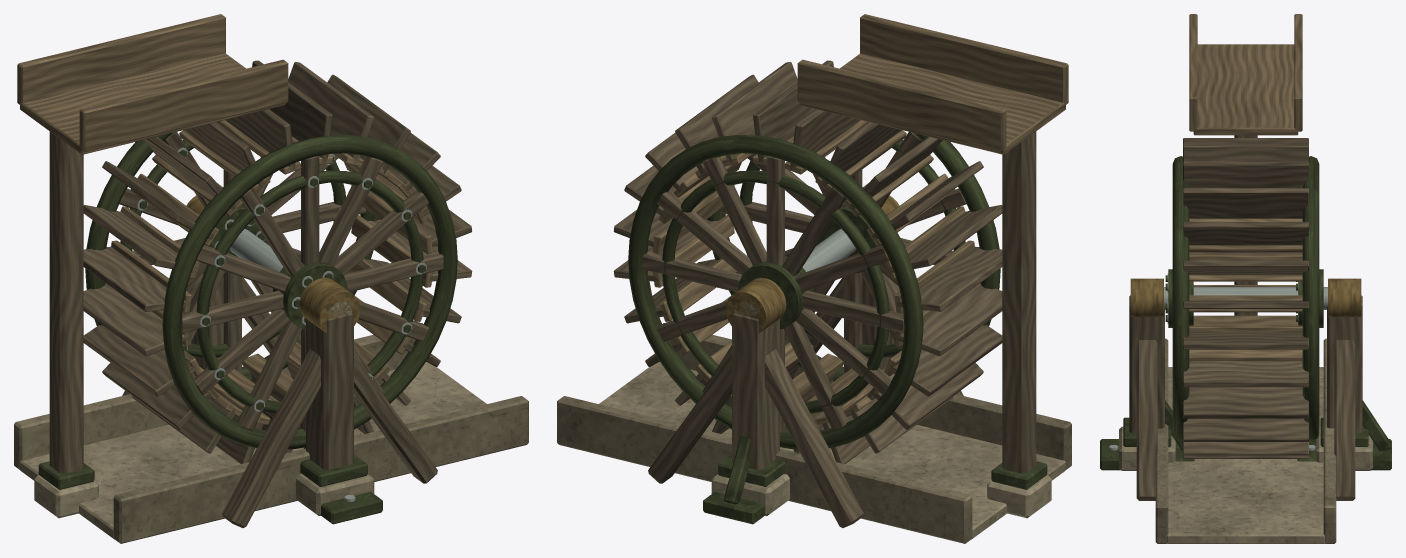
3 renders of one model, left to right at view 1: azimuth 30°, elevation 25°; view 2: azimuth 150°, elevation 25°; view 3: azimuth 270°, elevation 25°, orthographic. The views are drawn at different scales.
Parts seen in each view (by area): view 1: quarter-sawn-timber (×2), exposed-end-grain (×2), olive-painted-field-steel (×2), weathered-sandstone-ashlar, sandstone-edges, machined-bearing-steel (×2), aged-bronze; view 2: quarter-sawn-timber (×2), exposed-end-grain (×2), olive-painted-field-steel (×2), weathered-sandstone-ashlar, sandstone-edges, aged-bronze, machined-bearing-steel; view 3: quarter-sawn-timber (×2), exposed-end-grain (×2), sandstone-edges, olive-painted-field-steel (×2), weathered-sandstone-ashlar, aged-bronze, machined-bearing-steel.
Part boxes in pixels (x1,y1,x2,y2): quarter-sawn-timber (×2): [49, 60, 472, 527]; exposed-end-grain (×2): [17, 14, 433, 424]; olive-painted-field-steel (×2): [38, 133, 457, 524]; weathered-sandstone-ashlar: [14, 323, 528, 543]; sandstone-edges: [20, 362, 486, 539]; machined-bearing-steel (×2): [137, 147, 426, 501]; aged-bronze: [186, 195, 360, 333]; quarter-sawn-timber (×2): [613, 60, 1036, 527]; exposed-end-grain (×2): [652, 14, 1068, 424]; olive-painted-field-steel (×2): [628, 133, 1047, 524]; weathered-sandstone-ashlar: [557, 323, 1071, 543]; sandstone-edges: [599, 362, 1065, 539]; aged-bronze: [725, 195, 899, 333]; machined-bearing-steel: [734, 228, 856, 318]; quarter-sawn-timber (×2): [1129, 135, 1362, 500]; exposed-end-grain (×2): [1189, 14, 1302, 360]; sandstone-edges: [1119, 367, 1372, 543]; olive-painted-field-steel (×2): [1100, 156, 1391, 470]; weathered-sandstone-ashlar: [1155, 338, 1336, 543]; aged-bronze: [1130, 278, 1361, 317]; machined-bearing-steel: [1109, 287, 1327, 450].
Bounding box in the file's own units: 2 × 1.89 × 1.39.
7 materials, 7 textured.
